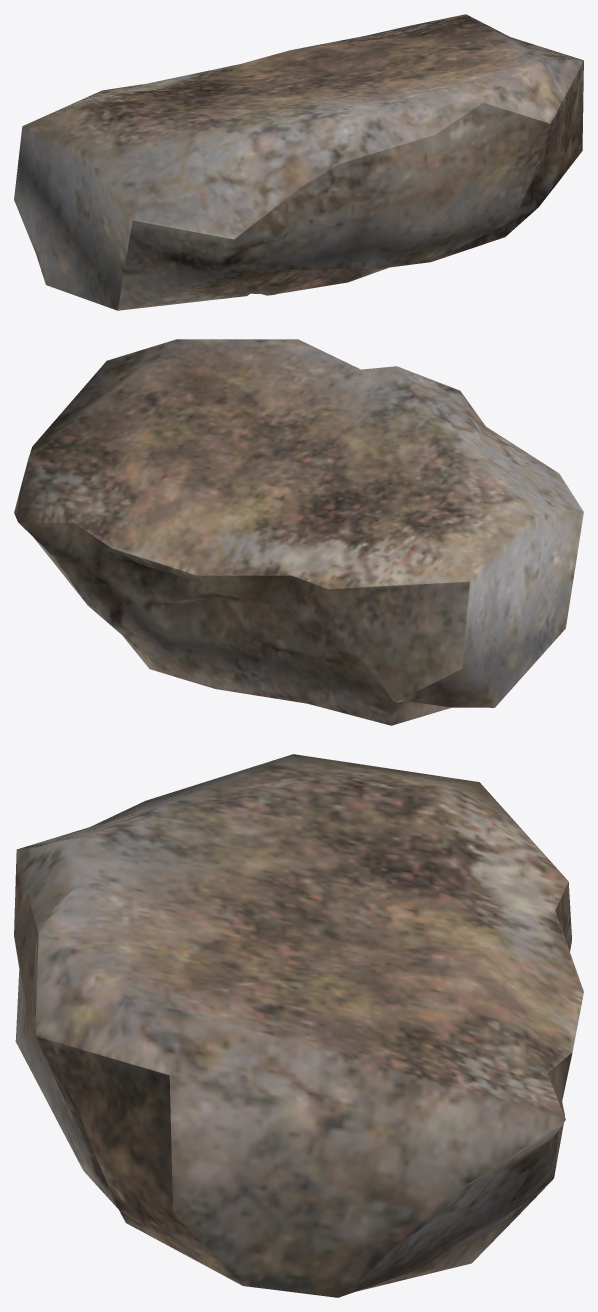
The model's file is SM_Stone03.FBX.
3 views of the same model, one above another, from view 1: azimuth 30°, elevation 25°; view 2: azimuth 150°, elevation 25°; view 3: azimuth 270°, elevation 25° (orthographic). The views are drawn at different scales.
Parts seen in each view (by area): view 1: SM_Stone03; view 2: SM_Stone03; view 3: SM_Stone03.
Boxes of the visible parts, box(x1,y1,x2,y2) form: SM_Stone03: box(14, 14, 583, 310); SM_Stone03: box(14, 339, 583, 725); SM_Stone03: box(14, 754, 583, 1297).
Bounding box in the file's own units: 198 × 141 × 93.99.
